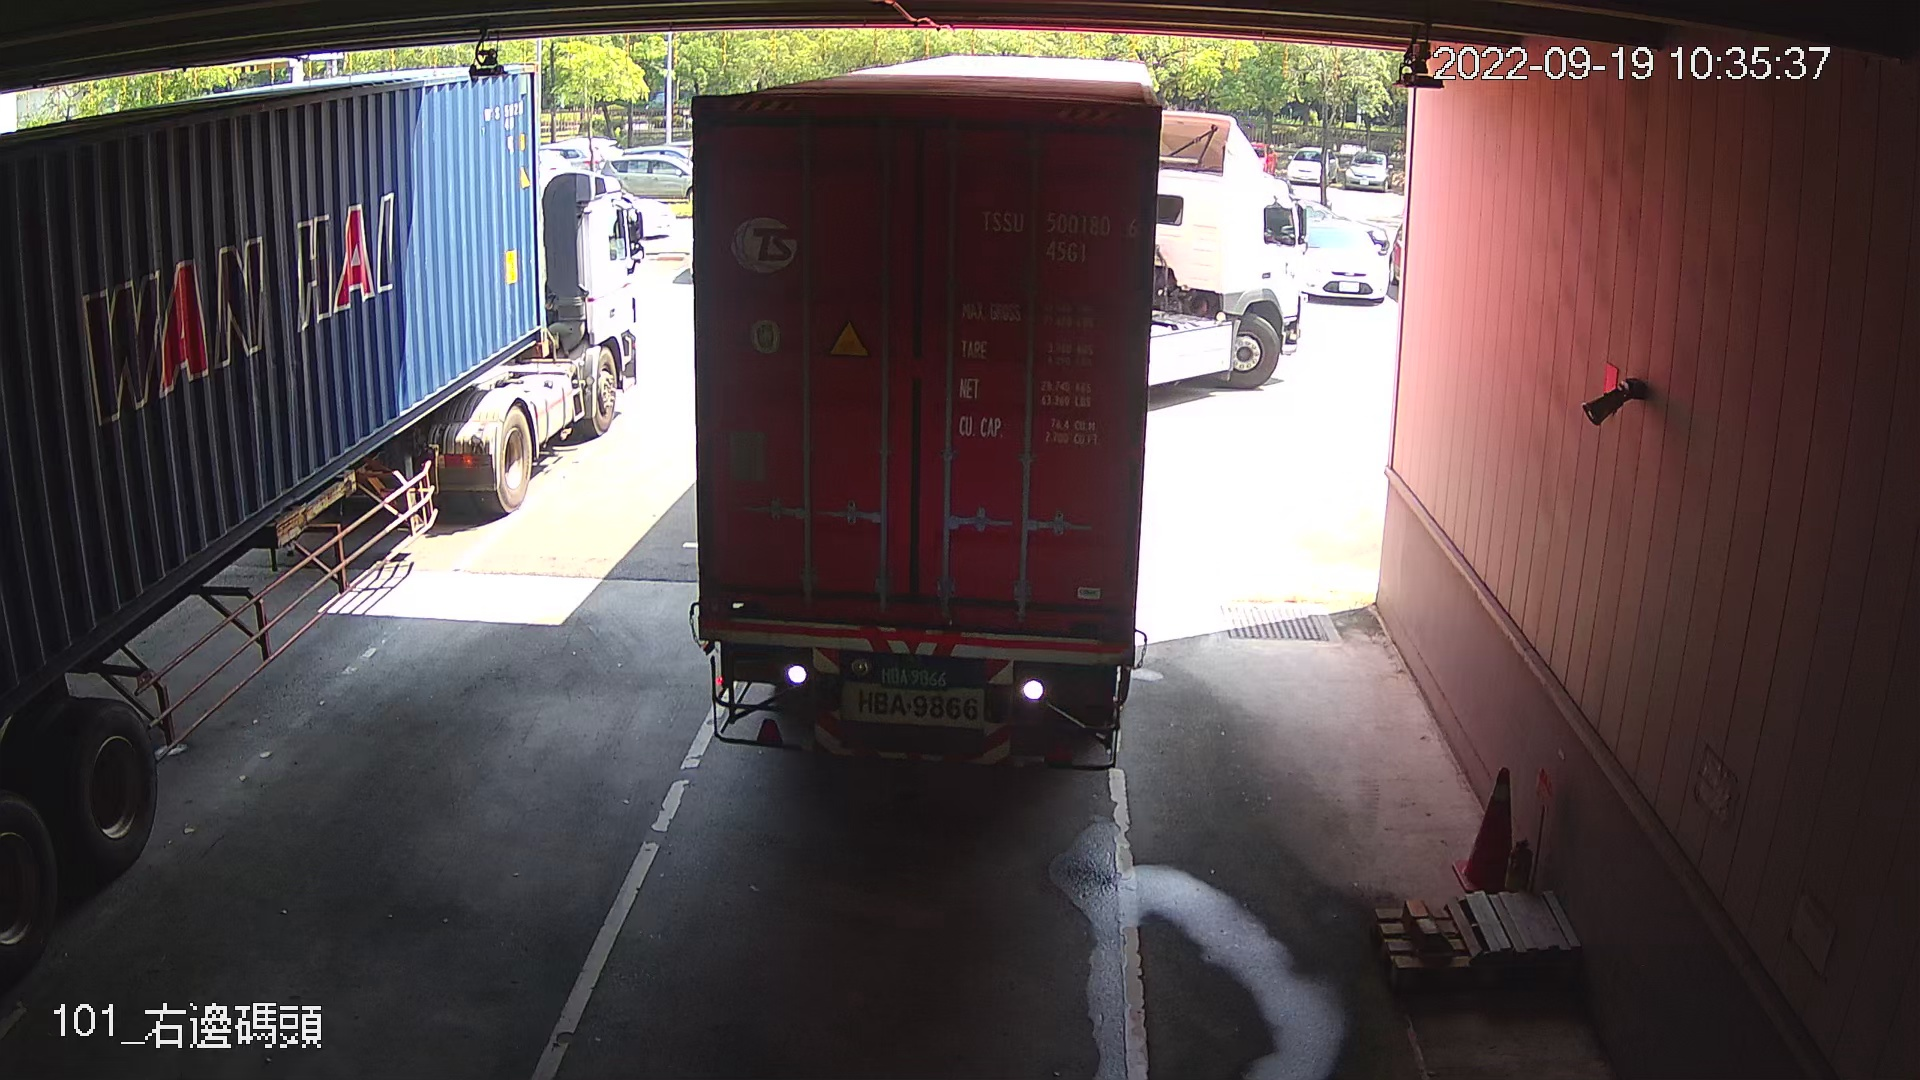container: (972, 198, 1147, 276)
